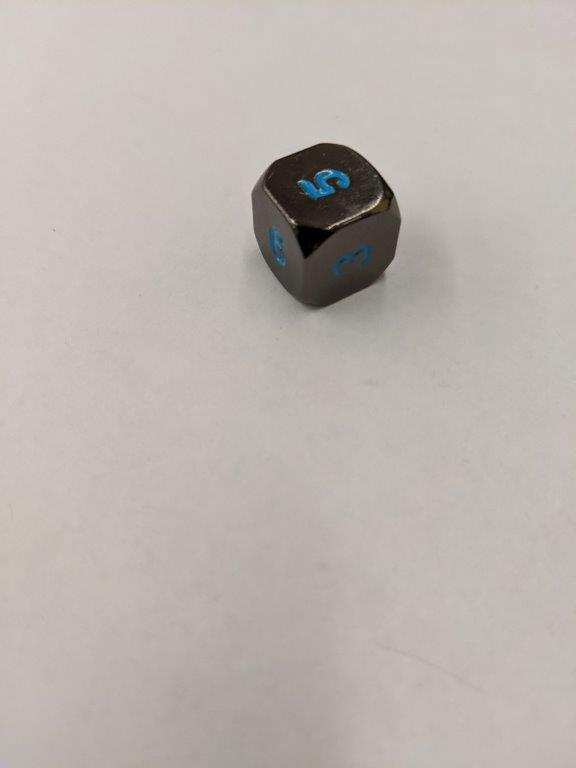d6-5: (253, 140, 403, 313)
